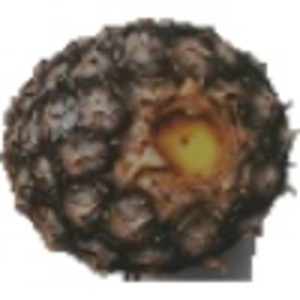abacaxi: (5, 12, 281, 272)
